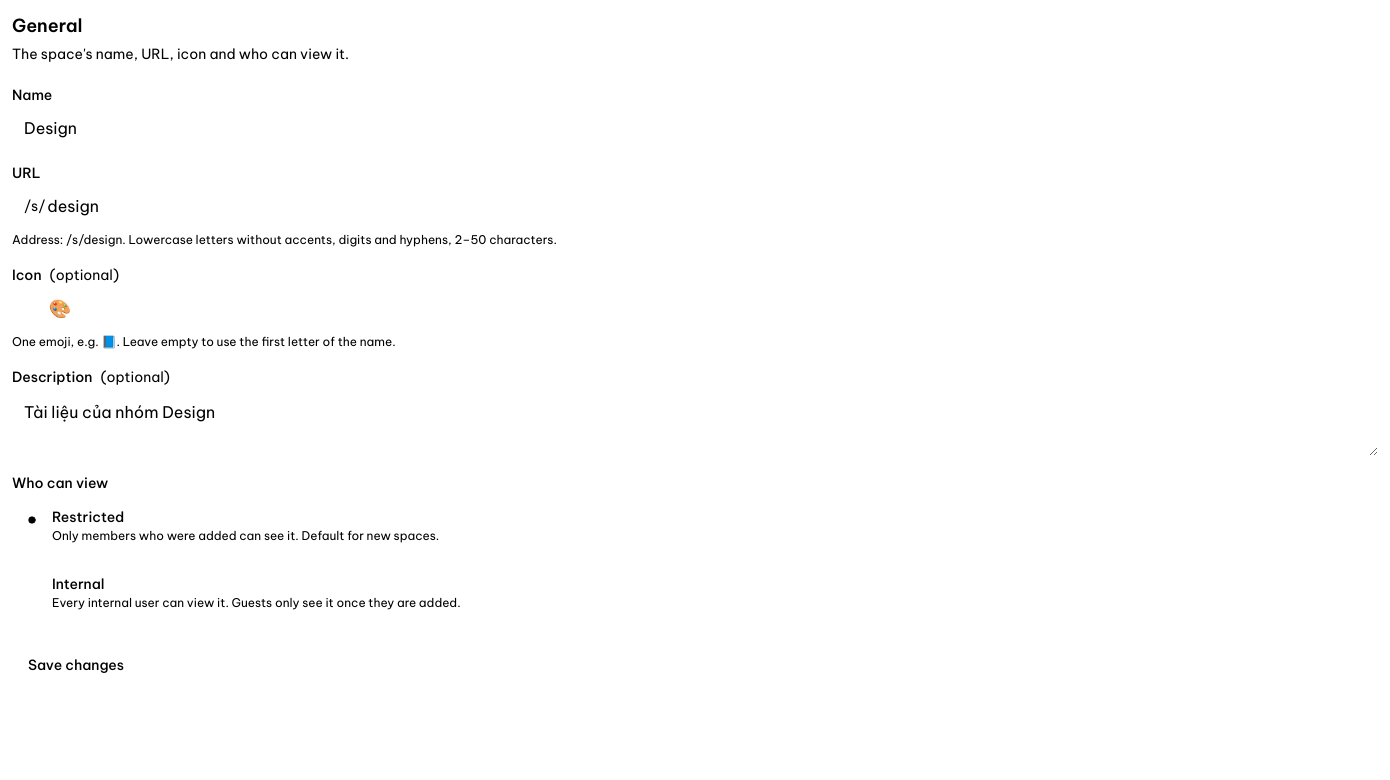
Scenario: SpaceSettingsForm › moves to the new URL when the slug changes
Replace the text in the field labelled "URL" with "design-team" at coordinates (712, 206), box x1=45 y1=188 x2=1378 y2=224
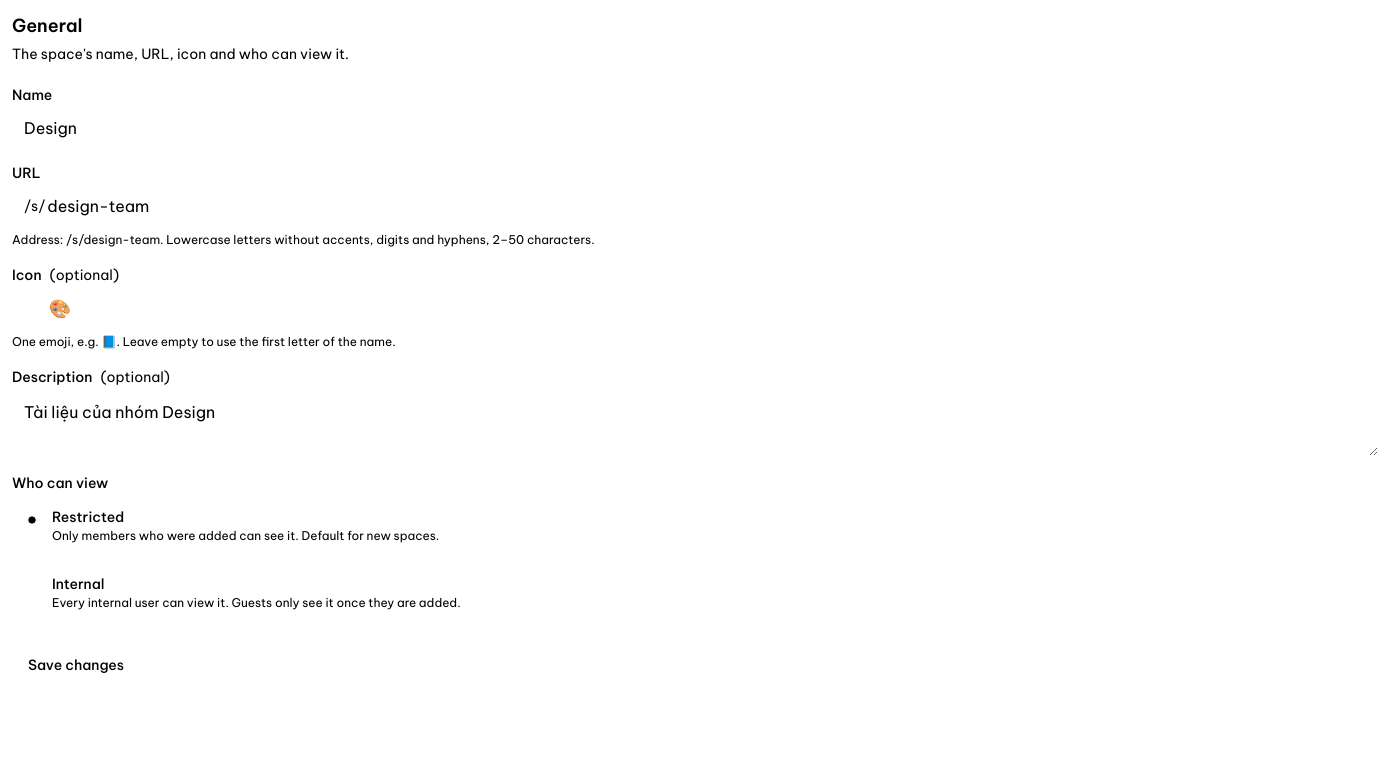
Click the button "Save changes" at coordinates (76, 665), box x1=12 y1=647 x2=140 y2=683
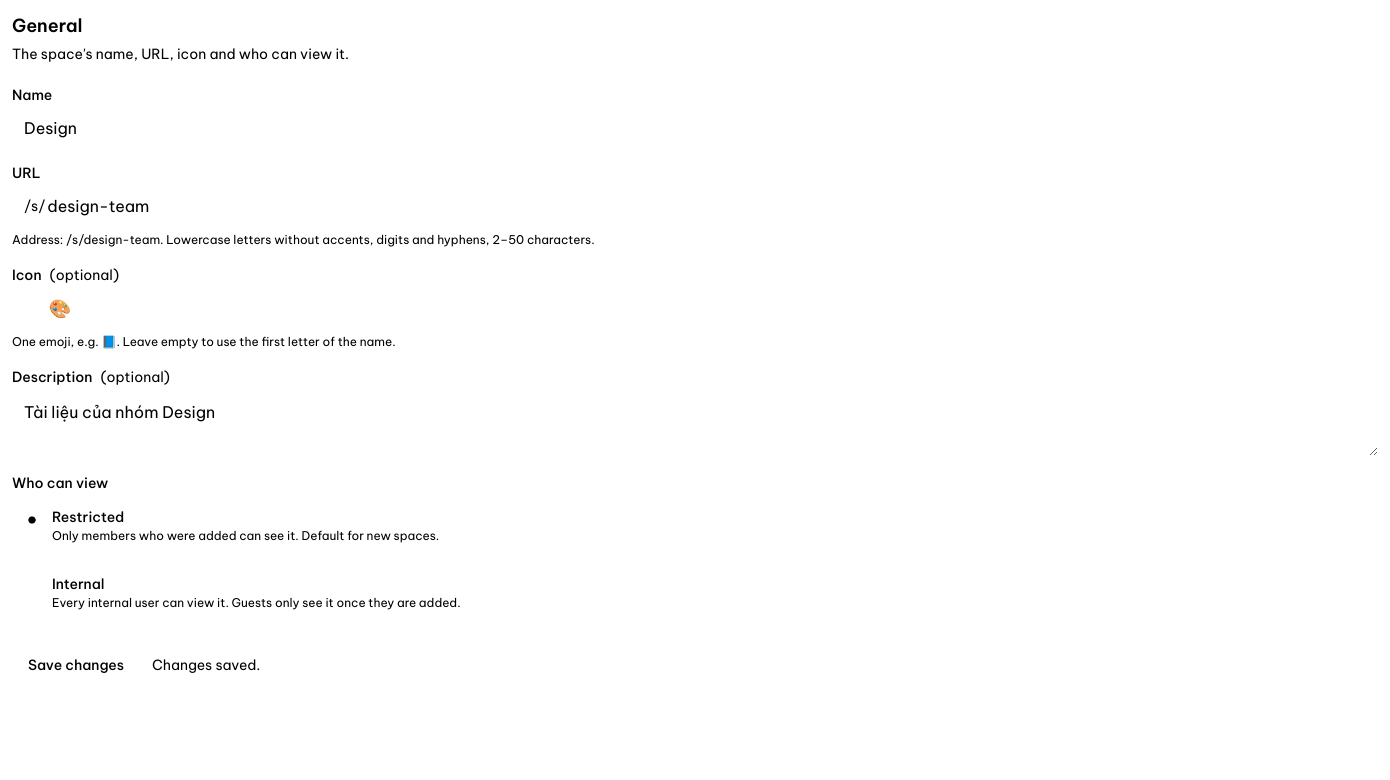
Check: the message reads "Changes saved.", box x1=152 y1=656 x2=260 y2=674
